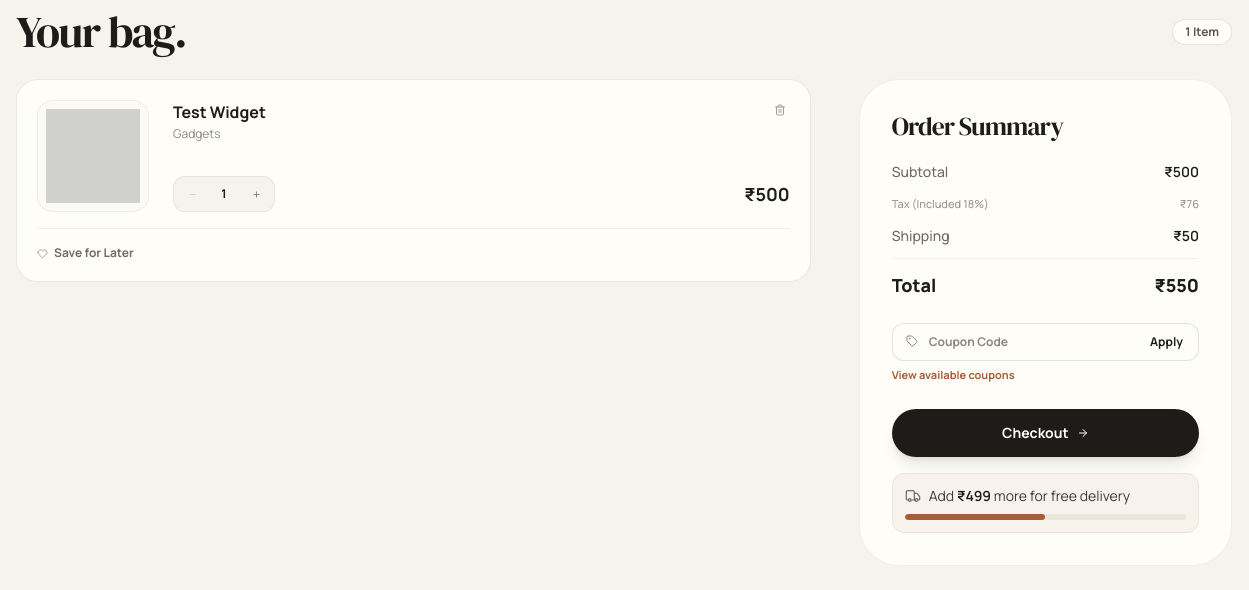
Cart Component › applies a valid promo code and reflects the discount in the total
This screenshot has width=1249, height=590.
Type "save50" into the field with placeholder "Coupon Code".
click(1045, 342); type("save50")  # box top-left (892, 323), bottom-right (1199, 361)
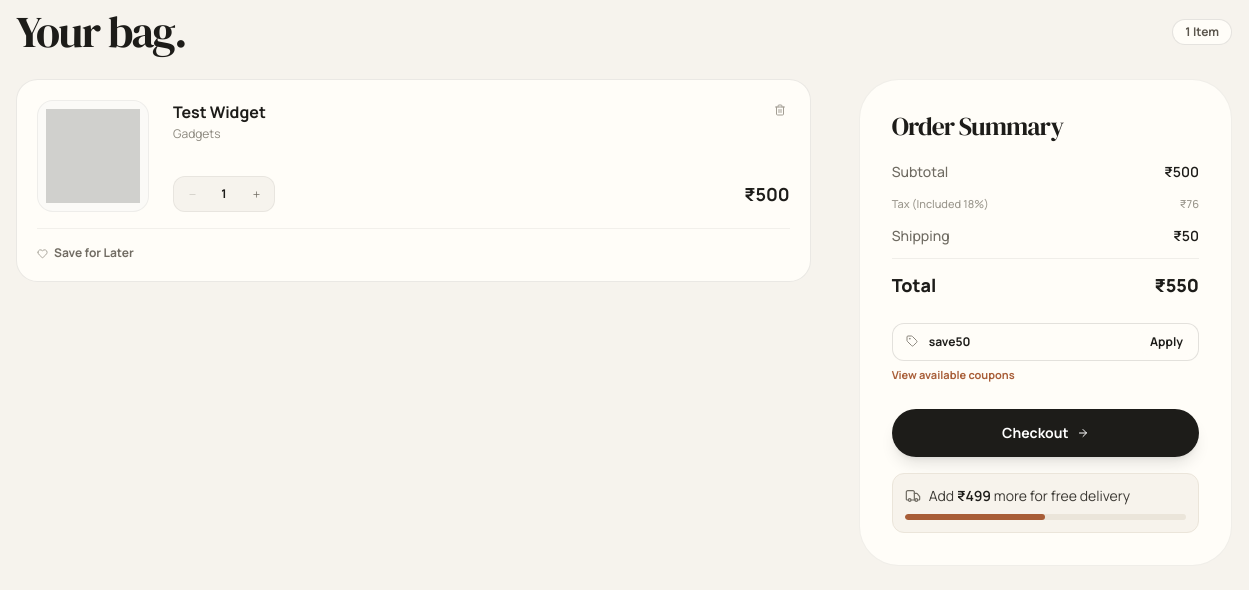
Click the button "Apply".
click(1167, 342)  # box top-left (1140, 329), bottom-right (1193, 355)
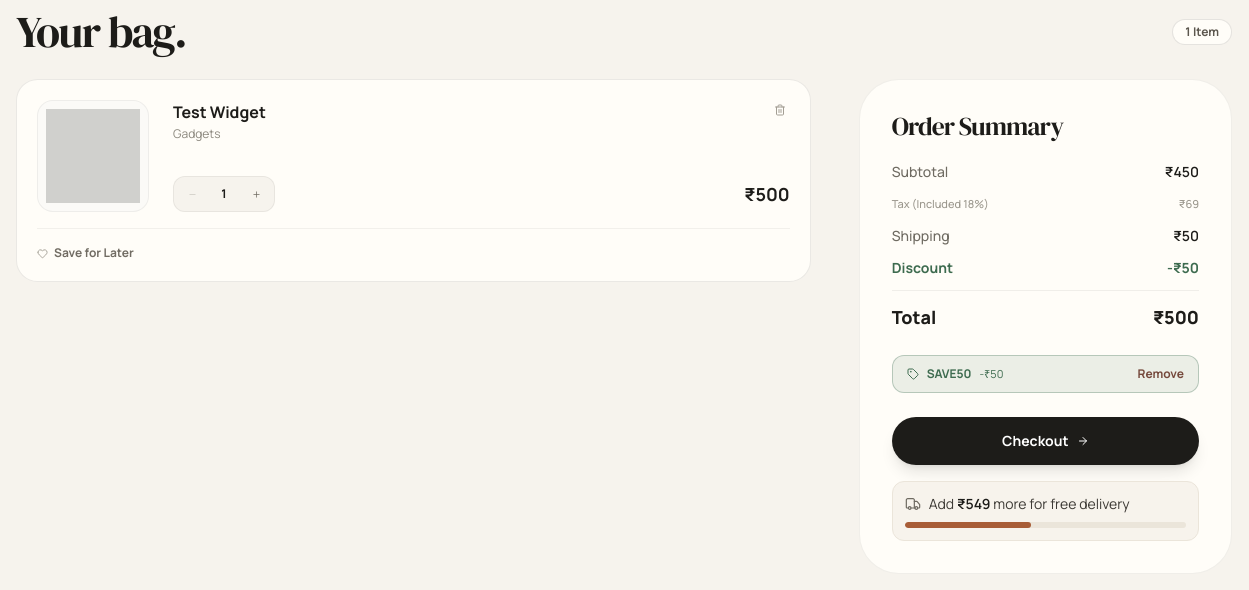
Result: the text "SAVE50" is shown at top-left (927, 366), bottom-right (971, 382)
